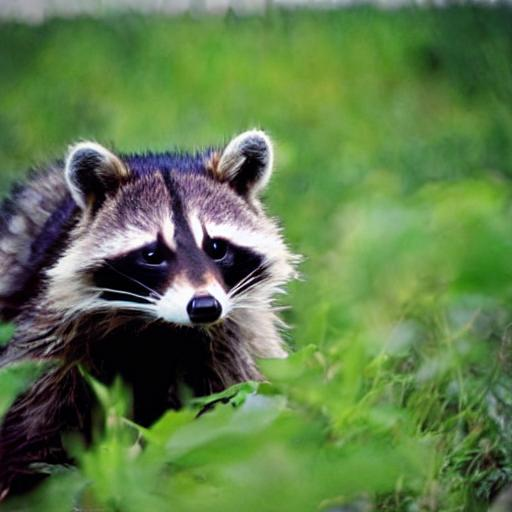raccoon: (0, 117, 318, 507)
